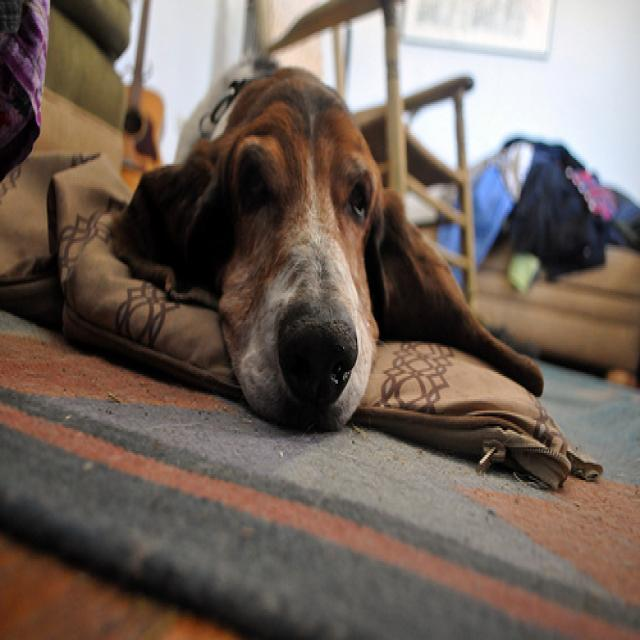dog-basset_hound: (115, 54, 554, 443)
